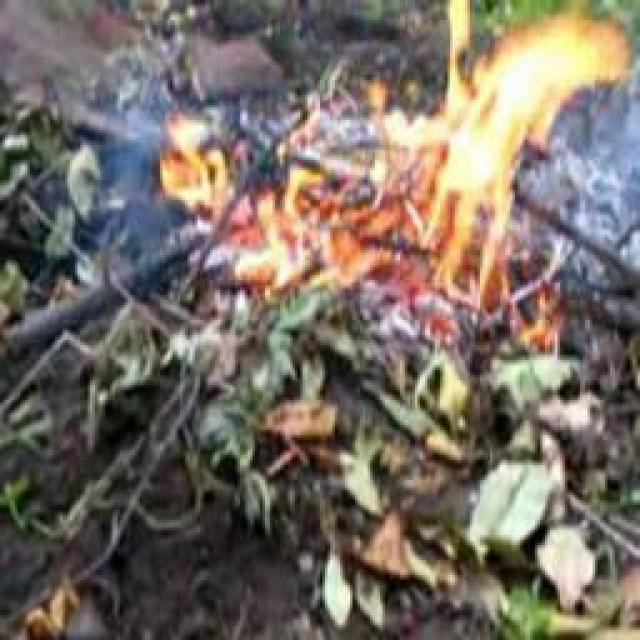Fire: (166, 117, 516, 326), (412, 27, 632, 211)
